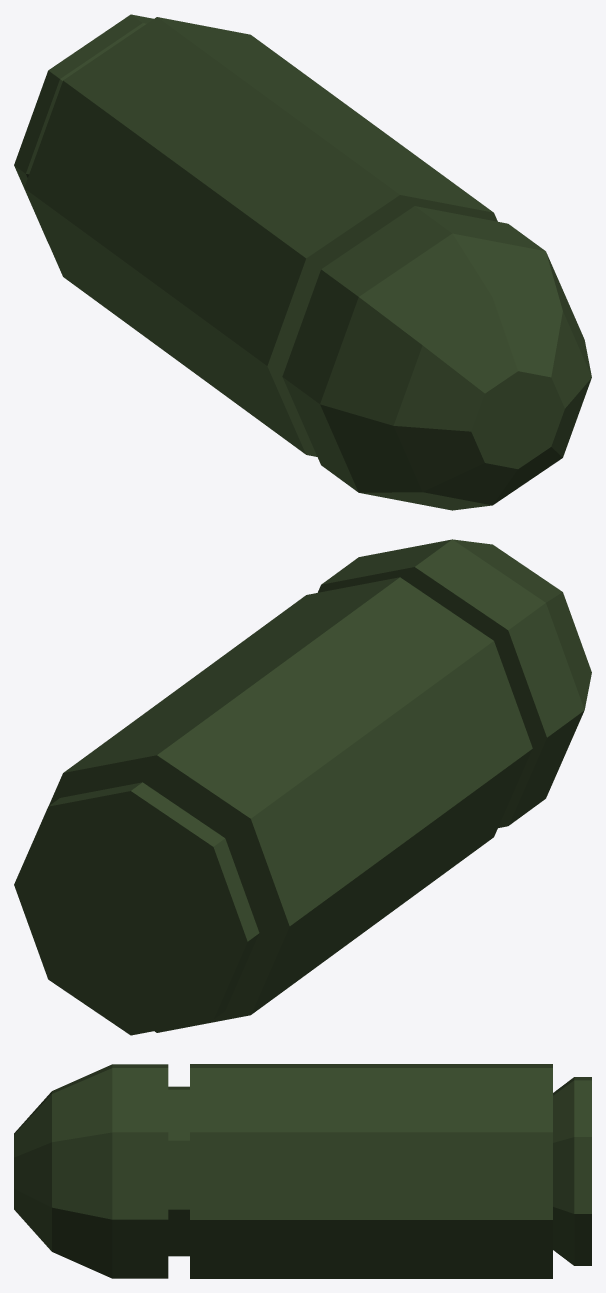
The model's file is rocket.fbx.
3 renders of one model, top to bottom at view 1: azimuth 30°, elevation 25°; view 2: azimuth 150°, elevation 25°; view 3: azimuth 270°, elevation 25°, orthographic. The views are drawn at different scales.
Parts seen in each view (by area): view 1: Circle; view 2: Circle; view 3: Circle.
Part boxes in pixels (left/top/right/bottom): Circle: left=14, top=14, right=591, bottom=510; Circle: left=14, top=539, right=591, bottom=1035; Circle: left=14, top=1064, right=591, bottom=1278.
Bounding box in the file's own units: 200 × 200 × 505.
